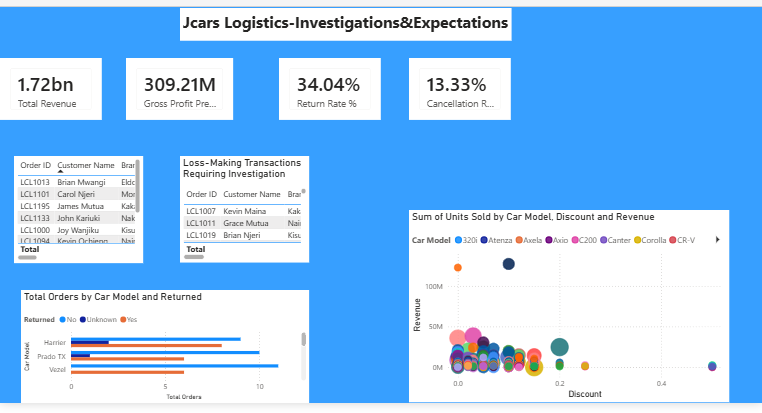

Layout of this report page (visuals, bound fields, positions):
{"tool":"powerbi","page":{"name":"Investigation&Excpections","canvas":[1280,720],"ordinal":8},"visuals":[{"type":"cardVisual","fields":{"Data":["Jcars_Raw.Total Revenue"]},"box":[0,141.7,171,104],"z":0},{"type":"cardVisual","fields":{"Data":["Jcars_Raw.Gross Profit Previous Month"]},"box":[211.7,141.7,180,104],"z":1000},{"type":"cardVisual","fields":{"Data":["Jcars_Raw.Return Rate %"]},"box":[468.3,141.7,171,104],"z":2000},{"type":"cardVisual","fields":{"Data":["Jcars_Raw.Cancellation Rate %"]},"box":[686.7,141.7,171,104],"z":3000},{"type":"tableEx","fields":{"Values":["Jcars_factSales.Order ID","Jcars_factSales.Customer Name","Jcars_factSales.Branch","Jcars_factSales.Car Model","Jcars_factSales.Revenue","Jcars_Raw.Gross Profit","Jcars_factSales.Discount","Jcars_Raw.Logistics Cost % of Revenue","Jcars_factSales.Payment Status","Jcars_factSales.Delivery Status","Jcars_factSales.Returned","Sum(Jcars_factSales.Customer Rating)"]},"box":[23.3,305,217,180],"z":4000},{"type":"tableEx","title":"Loss-Making Transactions Requiring Investigation","fields":{"Values":["Jcars_factSales.Order ID","Jcars_factSales.Customer Name","Jcars_factSales.Branch","Jcars_factSales.Car Model","Jcars_factSales.Revenue","Jcars_Raw.Gross Profit","Jcars_factSales.Discount","Jcars_Raw.Logistics Cost % of Revenue","Jcars_factSales.Delivery Status","Jcars_factSales.Returned","Sum(Jcars_factSales.Customer Rating)"]},"box":[301.7,305,217,179],"z":5000},{"type":"scatterChart","fields":{"X":["Jcars_factSales.Discount"],"Y":["Jcars_factSales.Revenue"],"Size":["Sum(Jcars_factSales.Units Sold)"],"Series":["Jcars_factSales.Car Model"]},"box":[686.7,396.7,537.5,322.5],"z":6000},{"type":"clusteredBarChart","fields":{"Category":["Jcars_factSales.Car Model"],"Y":["Jcars_Raw.Total Orders"],"Series":["Jcars_factSales.Returned"]},"box":[35.3,530.8,483.8,189.8],"z":7000},{"type":"textbox","box":[301.7,56.7,556.7,55],"z":8000}]}

Visuals, with their boxes on the page's 1280x720 design canvas (x1, y1, x2, y2). These are canvas units, not pixel positions in the 762x413 screenshot, which may show the page scaled, cropped or inside an application window:
cardVisual - Jcars_Raw.Total Revenue: 0,142,171,246
cardVisual - Jcars_Raw.Gross Profit Previous Month: 212,142,392,246
cardVisual - Jcars_Raw.Return Rate %: 468,142,639,246
cardVisual - Jcars_Raw.Cancellation Rate %: 687,142,858,246
tableEx - Jcars_factSales.Order ID x Jcars_factSales.Customer Name: 23,305,240,485
"Loss-Making Transactions Requiring Investigation" tableEx: 302,305,519,484
scatterChart - Jcars_factSales.Discount x Jcars_factSales.Revenue: 687,397,1224,719
clusteredBarChart - Jcars_factSales.Car Model x Jcars_Raw.Total Orders: 35,531,519,721
textbox: 302,57,858,112
